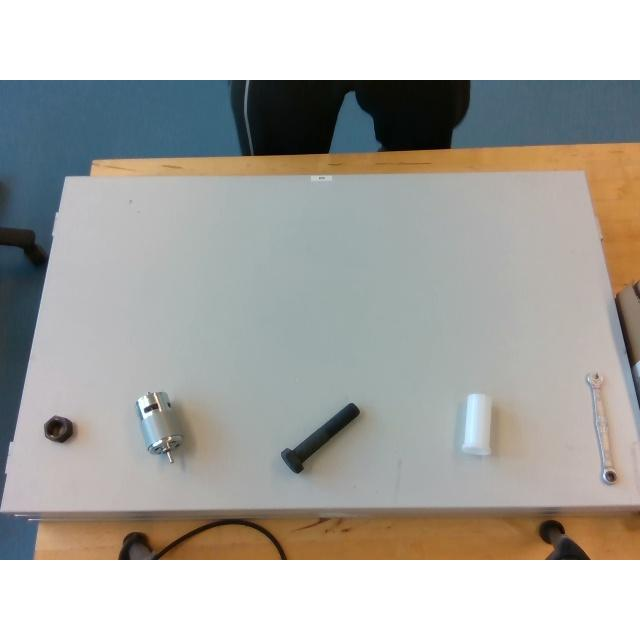M20: (43, 416, 73, 442)
M20_100: (280, 403, 360, 473)
Motor2: (136, 392, 182, 462)
Spacer: (461, 393, 491, 455)
Wrench: (586, 372, 618, 483)
